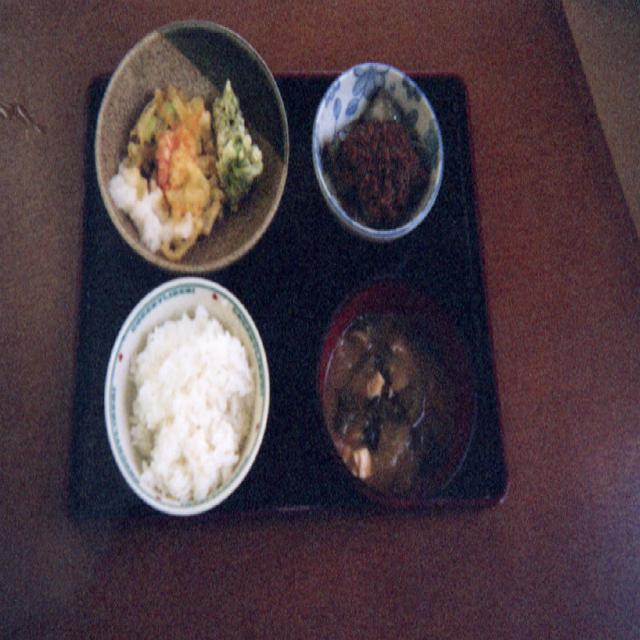鸡蛋料理: (309, 58, 458, 243)
